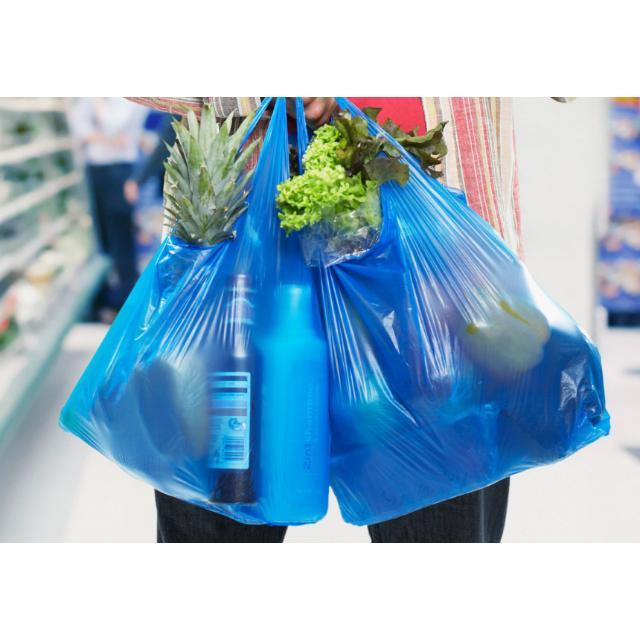Single-layer Plastic: (61, 99, 329, 524), (316, 155, 610, 525)
